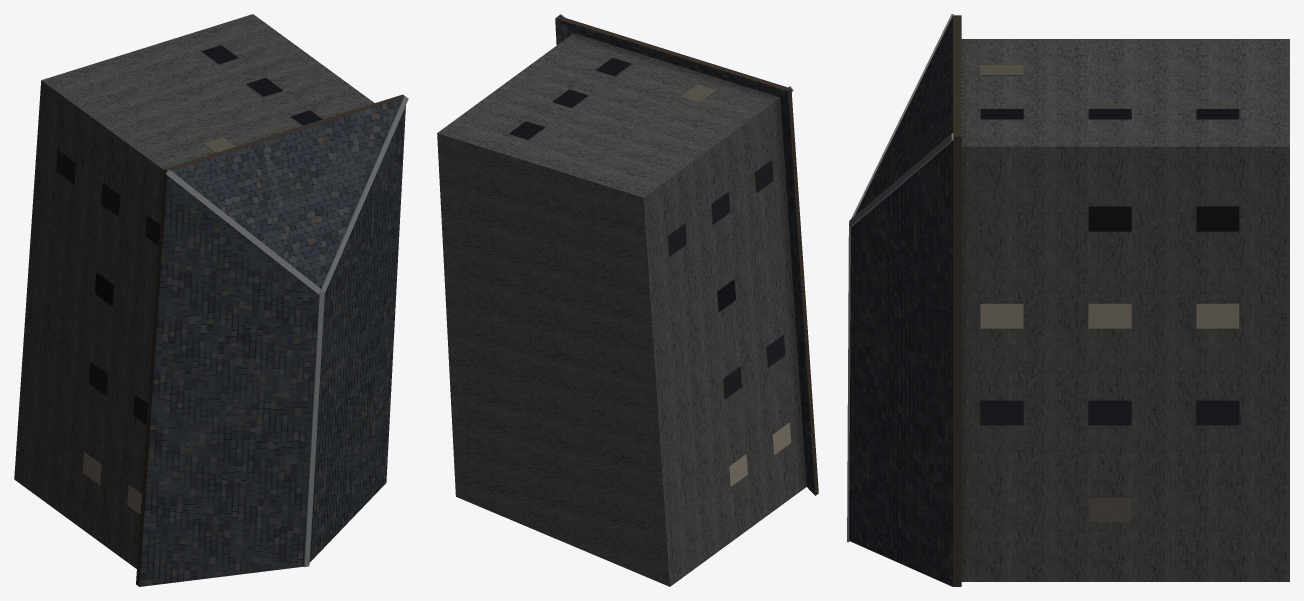
Rendered from house_b0253.obj.
3 views of the same model, side by side, from view 1: azimuth 30°, elevation 25°; view 2: azimuth 150°, elevation 25°; view 3: azimuth 270°, elevation 25° (orthographic). The views are drawn at different scales.
Visible parts, largest first — view 1: house_b0253; view 2: house_b0253; view 3: house_b0253.
Boxes of the visible parts, x1,y1,x2,y2 form: house_b0253: [14, 14, 408, 586]; house_b0253: [437, 14, 818, 586]; house_b0253: [847, 14, 1289, 586].
Size of the model in its own units: 10.46 by 15.87 by 12.31.
1 material, 1 textured.
